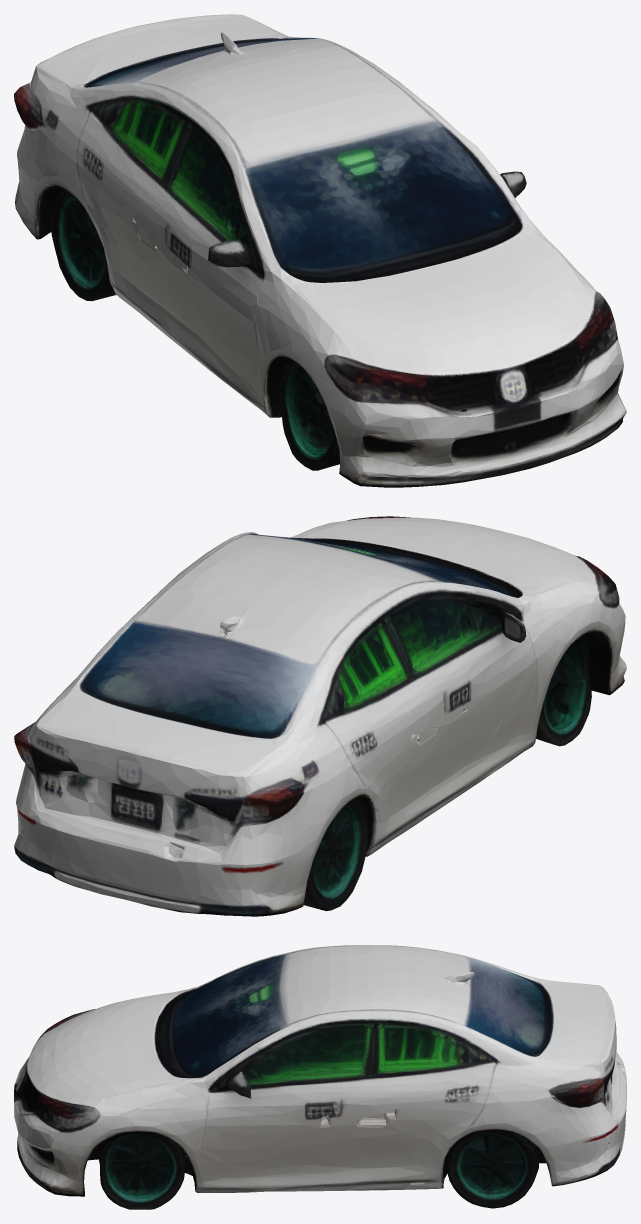
The model's file is traffic_sedan.glb.
3 renders of one model, top to bottom at view 1: azimuth 30°, elevation 25°; view 2: azimuth 150°, elevation 25°; view 3: azimuth 270°, elevation 25°, orthographic. The views are drawn at different scales.
Parts seen in each view (by area): view 1: world; view 2: world; view 3: world.
Part boxes in pixels (x1,y1,x2,y2): world: [14, 14, 626, 487]; world: [14, 516, 626, 916]; world: [14, 945, 626, 1209].
Bounding box in the file's own units: 0.4595 × 0.3391 × 0.9997.
1 material, 1 textured.
